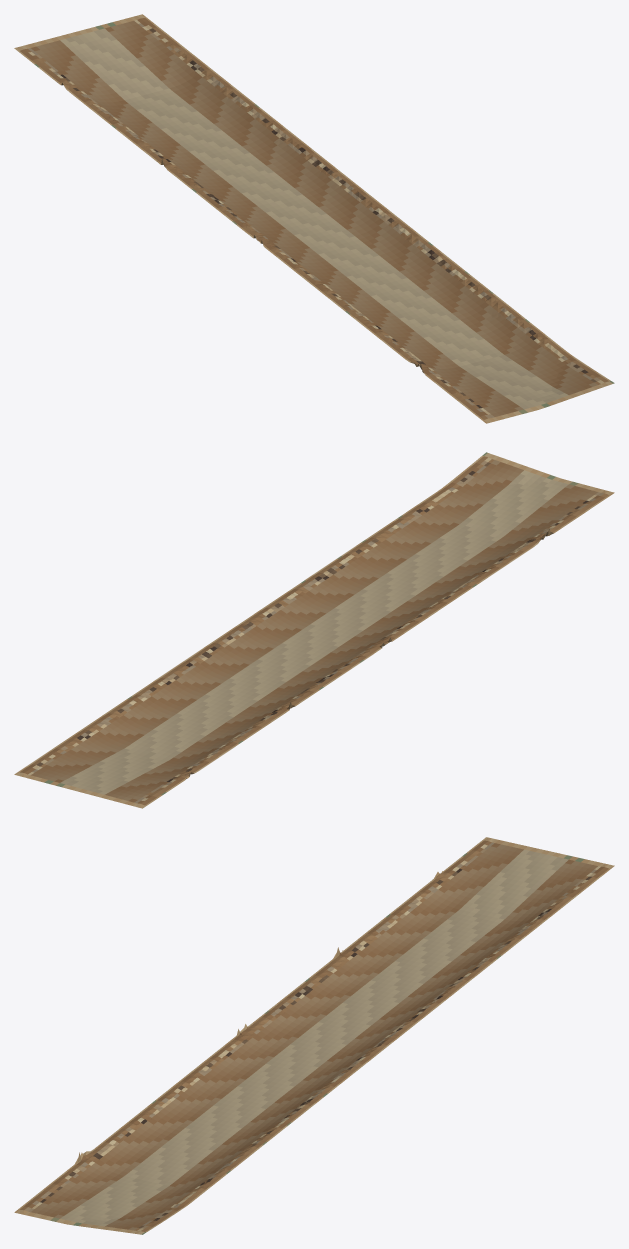
File: liner_lateral_canal.glb
The picture shows the model from 3 angles, top to bottom: view 1: azimuth 30°, elevation 25°; view 2: azimuth 150°, elevation 25°; view 3: azimuth 330°, elevation 25°; orthographic projection.
Visible parts, largest first — view 1: liner_lateral_canal_body; view 2: liner_lateral_canal_body; view 3: liner_lateral_canal_body.
Part boxes in pixels (x1,y1,x2,y2): liner_lateral_canal_body: (14,14,614,423); liner_lateral_canal_body: (14,452,614,808); liner_lateral_canal_body: (14,837,614,1234).
Size of the model in its own units: 46 by 12.29 by 292.
